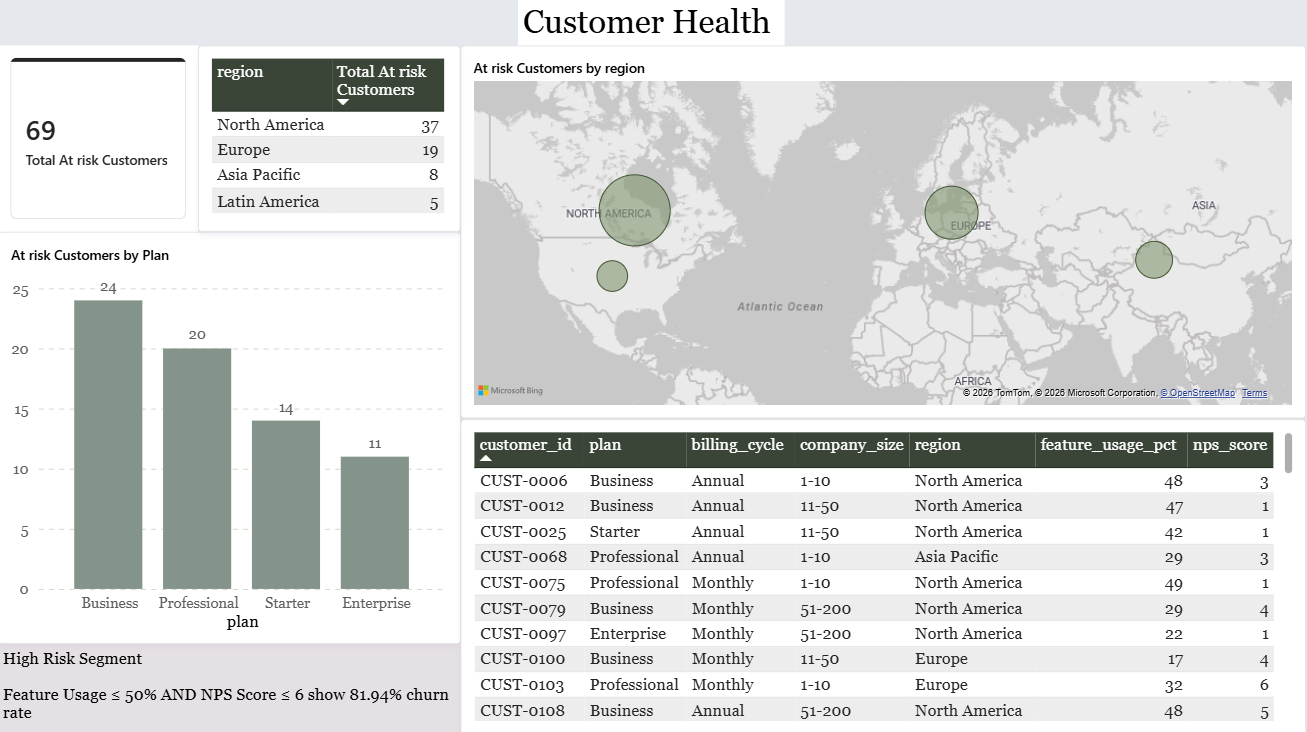

The dashboard page shown, as its layout file describes it:
{"tool":"powerbi","page":{"name":"Customer Health","canvas":[1280,720],"ordinal":4},"visuals":[{"type":"cardVisual","fields":{"Data":["rcanalysis vw_at_risk_customers.Total At-risk Customers"]},"box":[0,46.7,196.2,182.5],"z":0},{"type":"clusteredColumnChart","title":"At risk Customers by Plan","fields":{"Category":["rcanalysis vw_at_risk_customers.plan"],"Y":["rcanalysis vw_at_risk_customers.Total At risk Customers"]},"box":[0,229.2,452.8,403.4],"z":1000},{"type":"map","fields":{"Category":["rcanalysis vw_at_risk_customers.region"],"Size":["rcanalysis vw_at_risk_customers.Total At risk Customers"]},"box":[452.8,46.7,827.4,365],"z":2000},{"type":"tableEx","fields":{"Values":["rcanalysis vw_at_risk_customers.customer_id","rcanalysis vw_at_risk_customers.plan","rcanalysis vw_at_risk_customers.billing_cycle","rcanalysis vw_at_risk_customers.company_size","rcanalysis vw_at_risk_customers.region","rcanalysis vw_at_risk_customers.feature_usage_pct","rcanalysis vw_at_risk_customers.nps_score"]},"box":[452.8,411.7,827.4,308.7],"z":3000},{"type":"textbox","box":[509.1,0,260.7,46.7],"z":4000},{"type":"textbox","box":[0,632.2,452.4,88],"z":5000},{"type":"tableEx","fields":{"Values":["rcanalysis vw_at_risk_customers.region","rcanalysis vw_at_risk_customers.Total At risk Customers"]},"box":[196.2,46.7,256.6,182.5],"z":6000}]}

Visuals, with their boxes in screenshot pixels (x1, y1, x2, y2), scaled from the page's 1280x720 canvas onto the 1307x732 screenshot:
cardVisual - rcanalysis vw_at_risk_customers.Total At-risk Customers: (0,47,200,233)
"At risk Customers by Plan" clusteredColumnChart: (0,233,462,643)
map - rcanalysis vw_at_risk_customers.region x rcanalysis vw_at_risk_customers.Total At risk Customers: (462,47,1306,419)
tableEx - rcanalysis vw_at_risk_customers.customer_id x rcanalysis vw_at_risk_customers.plan: (462,419,1306,731)
textbox: (520,0,786,47)
textbox: (0,643,462,731)
tableEx - rcanalysis vw_at_risk_customers.region x rcanalysis vw_at_risk_customers.Total At risk Customers: (200,47,462,233)
